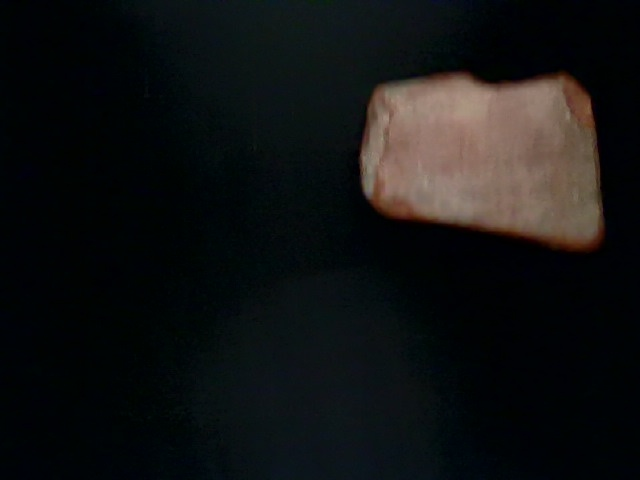KHSLJ: (286, 234, 640, 476)
